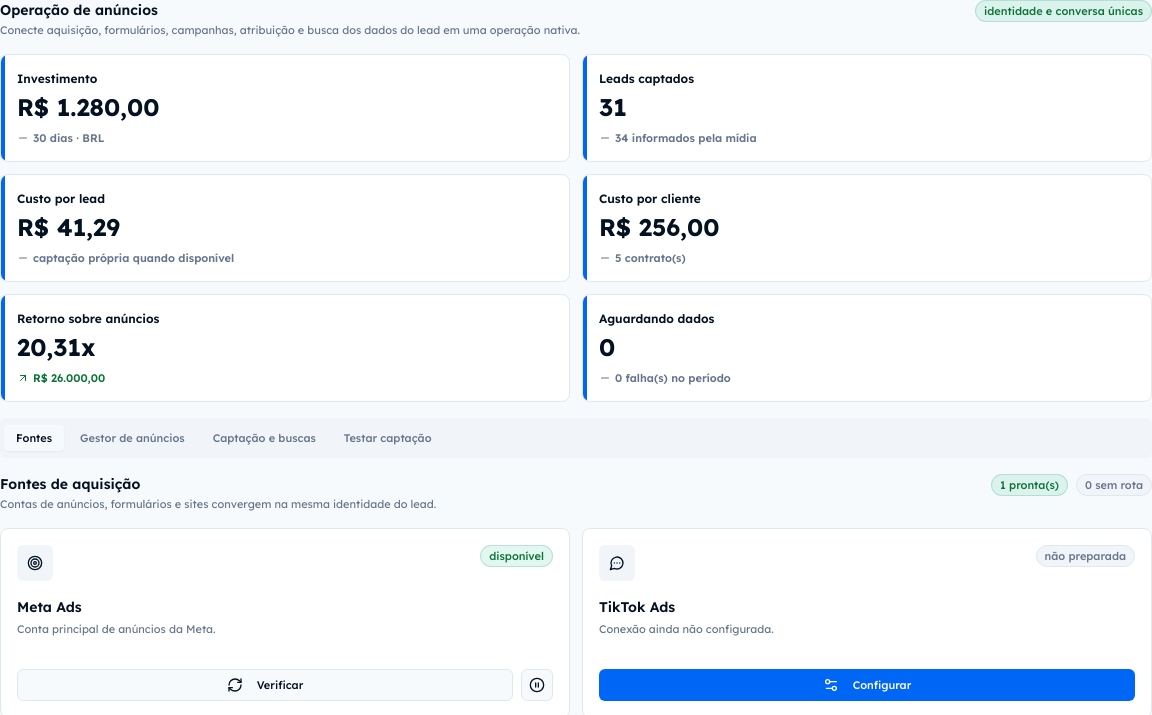
AcquisitionIntegrationsPanel › shows persisted campaign performance and imports a local snapshot on demand
This screenshot has width=1152, height=715.
Expected: the text "R$ 1.280,00" is shown, [17,92,159,122]
Step 1. Press the mouse on the tab "Gestor de anúncios" → (132, 438), box [68,425,197,451]
(page scrolled)
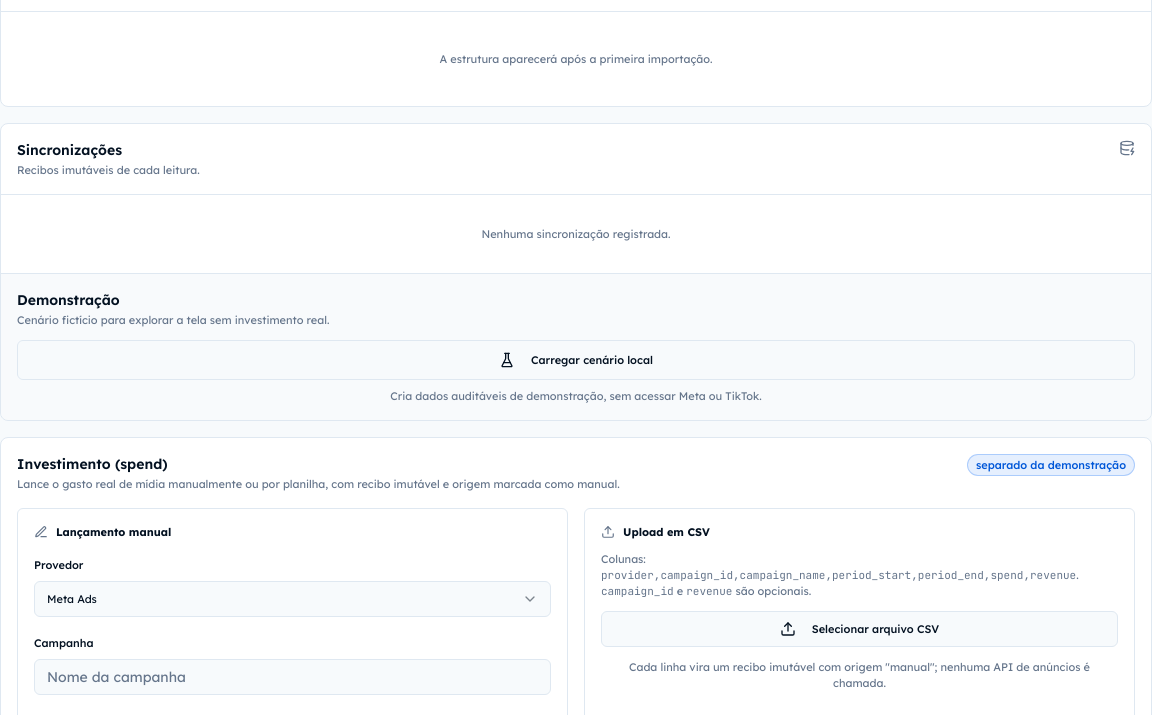
Step 2. Click the button "Carregar cenário local" → (576, 360), box [17,340,1135,380]
(page scrolled)
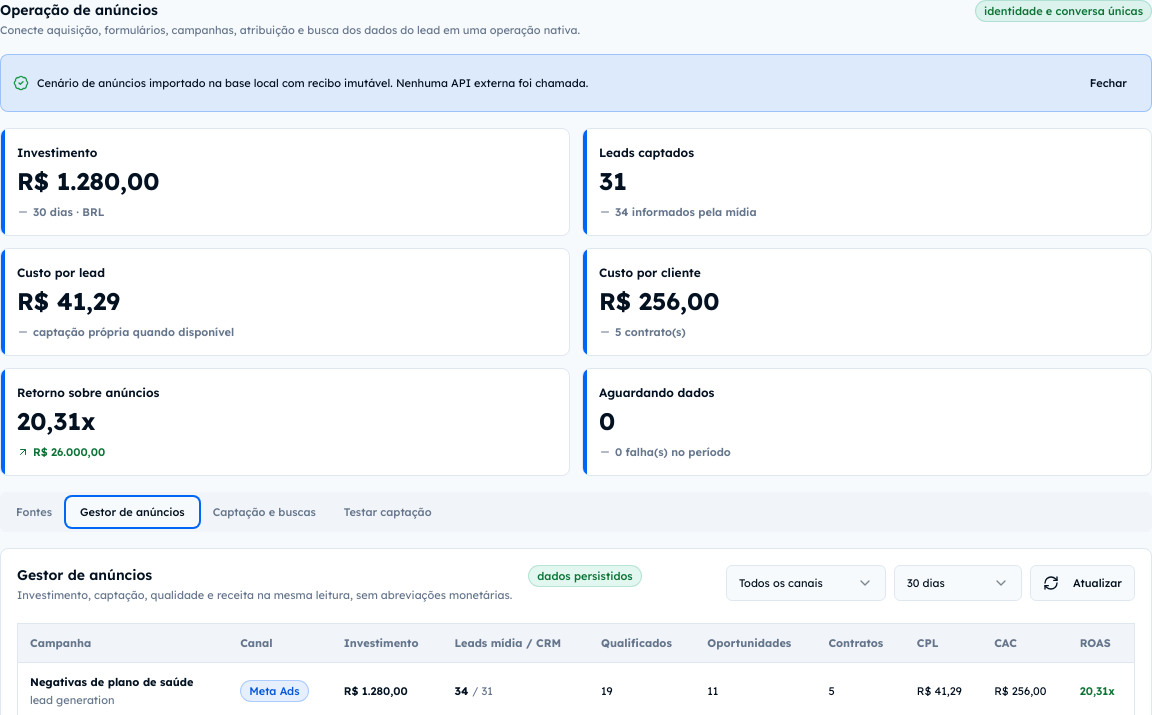
Expected: the text "Cenário de anúncios importado" is shown, [37,76,588,90]
